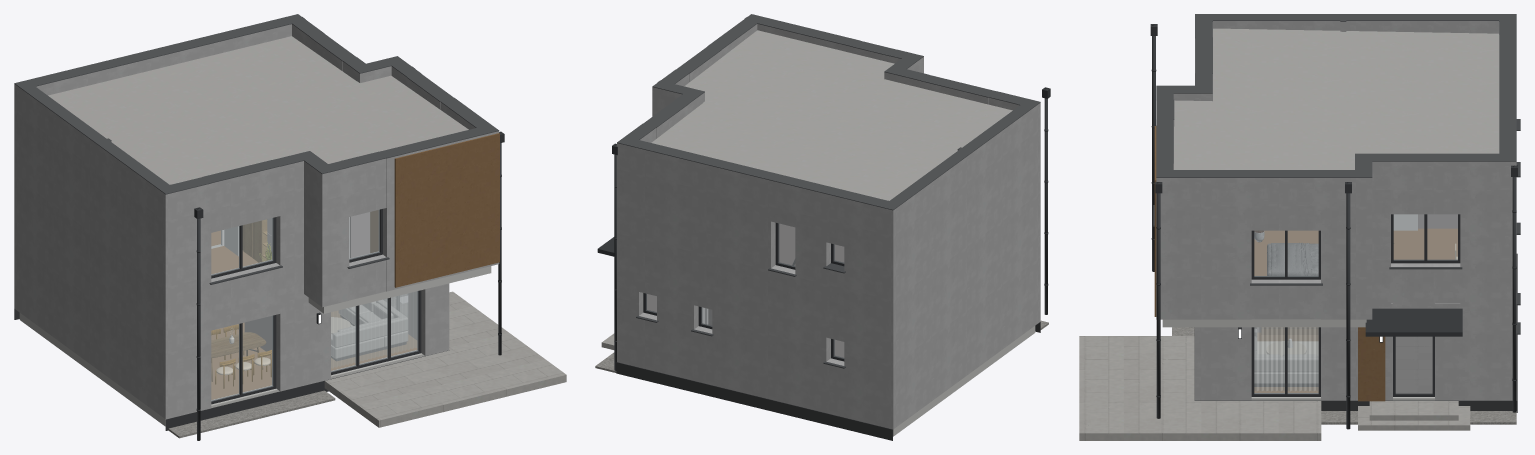
Rendered from house_stano_v2t.glb.
The picture shows the model from 3 angles, left to right: view 1: azimuth 30°, elevation 25°; view 2: azimuth 150°, elevation 25°; view 3: azimuth 270°, elevation 25°; orthographic projection. The views are drawn at different scales.
Parts seen in each view (by area): view 1: Shell, accent_clad_S, D1_S_1.09_HS_glass, curtain_sheer_S, D1_S_1.08_glass, W2_S_2.02_glass, W2_S_2.03_glass, D1_S_1.09_HS_frame, Nordic Harmony Wardrobe, sect_back_s, D1_S_1.08_frame, downpipe2 (+4 smaller); view 2: Shell, downpipe2, W2_N_2.06_stair_glass, downpipe0; view 3: Shell, D1_E_terrace_1.09_glass, curtain_sheer_E, W2_E_2.04_glass, W2_E_2.05_glass, canopy, accent_clad_E, downpipe3, downpipe0, downpipe1, sect_back_e, D1_E_terrace_1.09_frame (+8 smaller).
Boxes of the visible parts, bbox=[...] form: Shell: bbox=[14, 14, 566, 438]; accent_clad_S: bbox=[394, 133, 499, 287]; D1_S_1.09_HS_glass: bbox=[331, 291, 418, 371]; curtain_sheer_S: bbox=[331, 291, 416, 367]; D1_S_1.08_glass: bbox=[211, 316, 273, 401]; W2_S_2.02_glass: bbox=[211, 218, 273, 275]; W2_S_2.03_glass: bbox=[349, 210, 379, 259]; D1_S_1.09_HS_frame: bbox=[331, 290, 421, 375]; Nordic Harmony Wardrobe: bbox=[242, 218, 271, 262]; sect_back_s: bbox=[333, 317, 403, 347]; D1_S_1.08_frame: bbox=[211, 315, 276, 404]; downpipe2: bbox=[197, 208, 200, 440]; Shell: bbox=[595, 14, 1048, 440]; downpipe2: bbox=[1044, 88, 1047, 314]; W2_N_2.06_stair_glass: bbox=[778, 223, 794, 266]; downpipe0: bbox=[614, 144, 616, 370]; Shell: bbox=[1079, 14, 1517, 440]; D1_E_terrace_1.09_glass: bbox=[1254, 327, 1318, 393]; curtain_sheer_E: bbox=[1254, 327, 1318, 390]; W2_E_2.04_glass: bbox=[1254, 231, 1318, 276]; W2_E_2.05_glass: bbox=[1394, 214, 1457, 259]; canopy: bbox=[1365, 308, 1462, 336]; accent_clad_E: bbox=[1358, 327, 1385, 401]; downpipe3: bbox=[1346, 182, 1350, 429]; downpipe0: bbox=[1512, 165, 1516, 412]; downpipe1: bbox=[1156, 182, 1160, 418]; sect_back_e: bbox=[1254, 356, 1318, 371]; D1_E_terrace_1.09_frame: bbox=[1251, 327, 1320, 396].
Size of what is drawn, in the model's own units: 10.98 by 7.18 by 11.4.
Materials: 105 (51 with a texture image).
